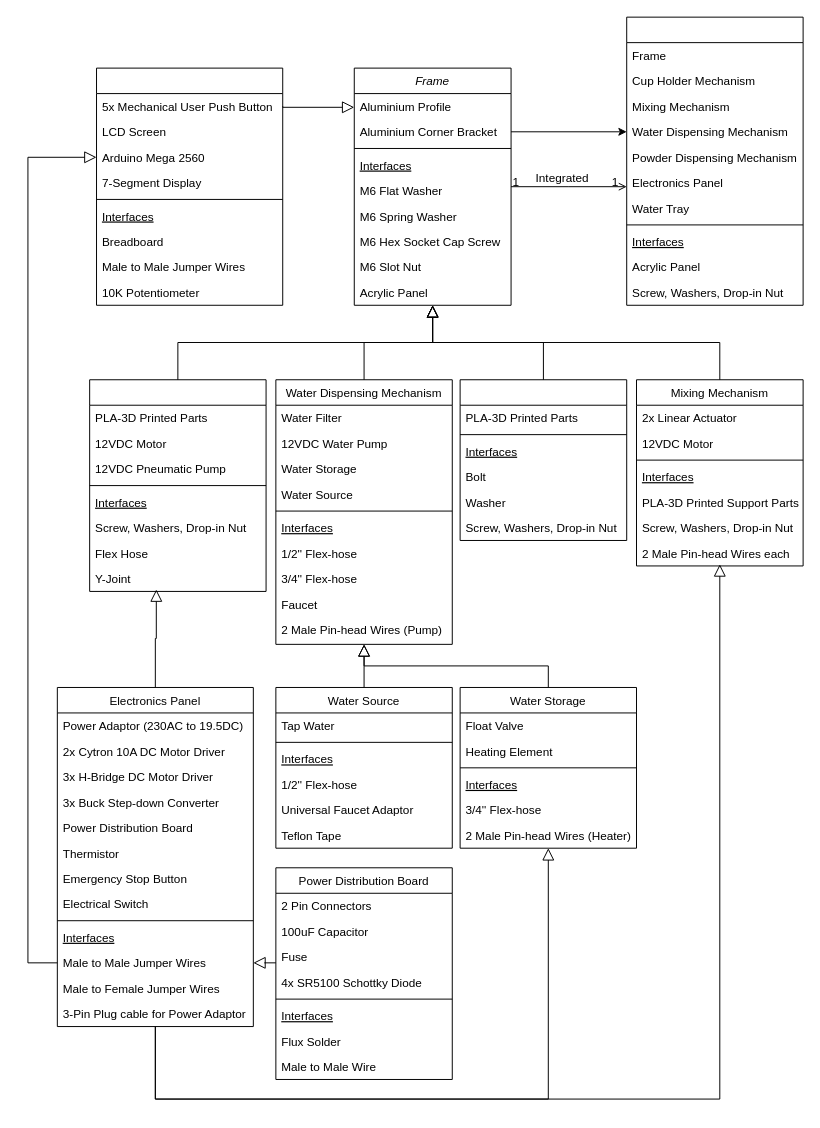
Image size: 820x1128. Some labels were removed from this diagram. Each missing label, with the box of its shape:
Cup Holder: (459, 379, 627, 540)
Integrated System: (626, 16, 803, 305)
Powder Dispensing Mechansim: (89, 379, 266, 591)
User Panel: (96, 67, 283, 305)
